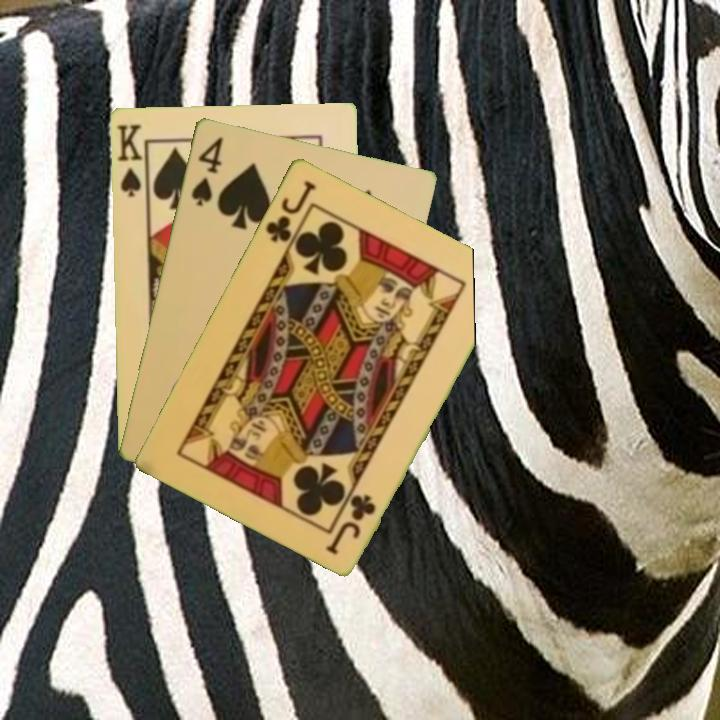4s: (187, 133, 226, 209)
Jc: (262, 176, 319, 245), (324, 490, 379, 557)
Ks: (112, 120, 149, 200)
